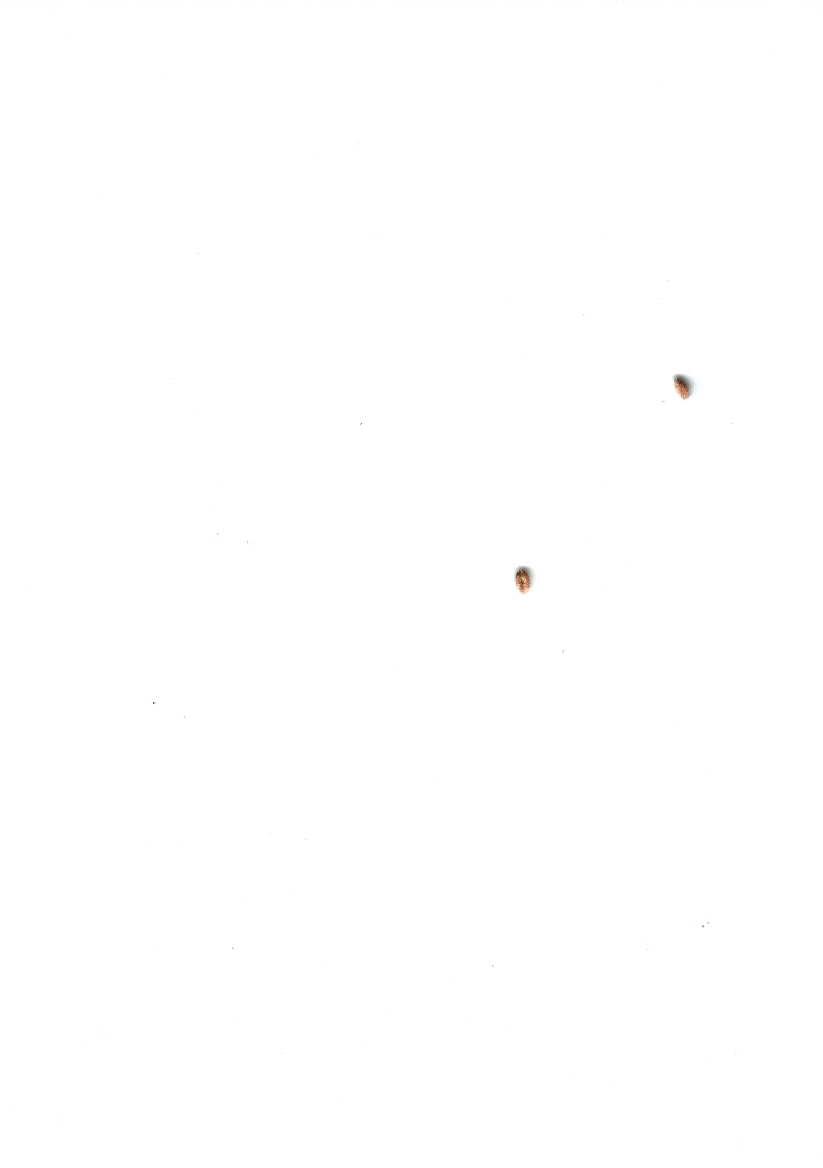grains: (657, 364, 708, 416), (494, 553, 546, 604)
